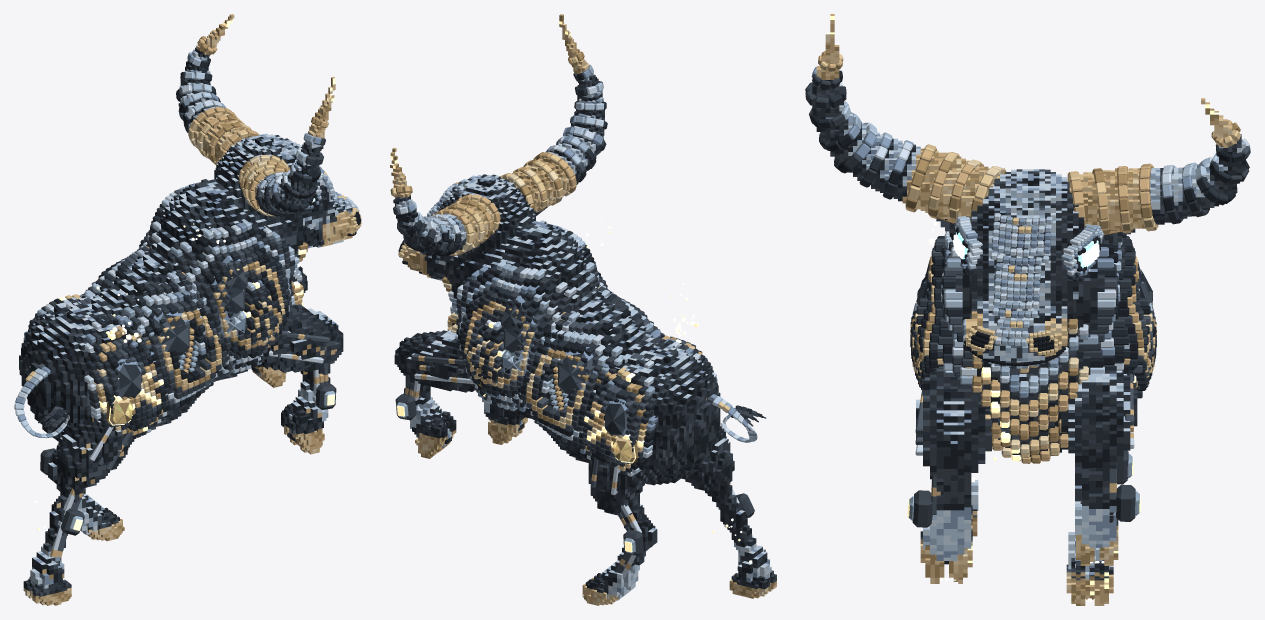
File: voxel-ox.glb
The picture shows the model from 3 angles, left to right: view 1: azimuth 30°, elevation 25°; view 2: azimuth 150°, elevation 25°; view 3: azimuth 270°, elevation 25°; orthographic projection. The views are drawn at different scales.
Visible parts, largest first — view 1: Charging torso, shoulder hump and heavy neck, Shoulder • Faceted crest, Barrel • Wide contour plates, Rump • Faceted rim, Near trailing hindleg, Cranium and muzzle, Near tucked foreleg, Upturned bull horn • left • Stacked rib facets, Upturned bull horn • right • Stacked rib facets, Upturned bull horn • left, Upturned bull horn • right, Limb crystalline inlays (+14 smaller); view 2: Charging torso, shoulder hump and heavy neck, Shoulder • Faceted crest, Barrel • Wide contour plates, Rump • Faceted rim, Near trailing hindleg, Far tucked foreleg, Cranium and muzzle, Upturned bull horn • left • Stacked rib facets, Far trailing hindleg, Upturned bull horn • left, Upturned bull horn • right • Stacked rib facets, Upturned bull horn • right (+12 smaller); view 3: Cranium and muzzle, Shoulder • Faceted crest, Near tucked foreleg, Far tucked foreleg, Stepped chest chevrons, Upturned bull horn • left • Stacked rib facets, Upturned bull horn • left, Upturned bull horn • right • Stacked rib facets, Upturned bull horn • right, Brow crest and crystalline nose bridge, Charging torso, shoulder hump and heavy neck, Spectral eyes and stepped orbital rims (+9 smaller).
Boxes of the visible parts, box(x1,y1,x2,y2) form: Charging torso, shoulder hump and heavy neck: box(19, 179, 304, 441); Shoulder • Faceted crest: box(129, 185, 296, 373); Barrel • Wide contour plates: box(80, 244, 242, 410); Rump • Faceted rim: box(23, 293, 174, 438); Near trailing hindleg: box(30, 416, 136, 588); Cranium and muzzle: box(214, 133, 357, 248); Near tucked foreleg: box(257, 304, 343, 441); Upturned bull horn • left • Stacked rib facets: box(238, 116, 328, 216); Upturned bull horn • right • Stacked rib facets: box(176, 36, 259, 165); Upturned bull horn • left: box(242, 77, 335, 214); Upturned bull horn • right: box(178, 14, 249, 163); Limb crystalline inlays: box(49, 330, 329, 565); Charging torso, shoulder hump and heavy neck: box(443, 220, 720, 485); Shoulder • Faceted crest: box(454, 226, 614, 411); Barrel • Wide contour plates: box(505, 284, 670, 448); Rump • Faceted rim: box(573, 332, 717, 476); Near trailing hindleg: box(681, 426, 771, 582); Far tucked foreleg: box(394, 329, 475, 447); Cranium and muzzle: box(401, 174, 535, 280); Upturned bull horn • left • Stacked rib facets: box(500, 51, 607, 212); Far trailing hindleg: box(588, 454, 657, 600); Upturned bull horn • left: box(509, 14, 604, 210); Upturned bull horn • right • Stacked rib facets: box(390, 185, 500, 255); Upturned bull horn • right: box(390, 147, 493, 254); Cranium and muzzle: box(966, 169, 1089, 368); Shoulder • Faceted crest: box(910, 231, 1156, 390); Near tucked foreleg: box(916, 367, 991, 564); Far tucked foreleg: box(1061, 366, 1137, 547); Stepped chest chevrons: box(962, 318, 1088, 463); Upturned bull horn • left • Stacked rib facets: box(805, 51, 1005, 223); Upturned bull horn • left: box(812, 14, 999, 219); Upturned bull horn • right • Stacked rib facets: box(1067, 120, 1250, 234); Upturned bull horn • right: box(1069, 98, 1245, 232); Brow crest and crystalline nose bridge: box(990, 213, 1052, 346); Charging torso, shoulder hump and heavy neck: box(955, 258, 1104, 458); Spectral eyes and stepped orbital rims: box(953, 216, 1103, 282).
Bounding box in the file's own units: 5.94 × 8.12 × 4.83.
